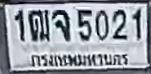0: (94, 9, 108, 40)
1: (14, 9, 24, 40), (132, 8, 140, 39)
2: (112, 8, 127, 38)
5: (77, 9, 91, 40)
A08: (51, 10, 70, 40)
A18: (28, 9, 49, 41)
BKK: (28, 48, 129, 69)
